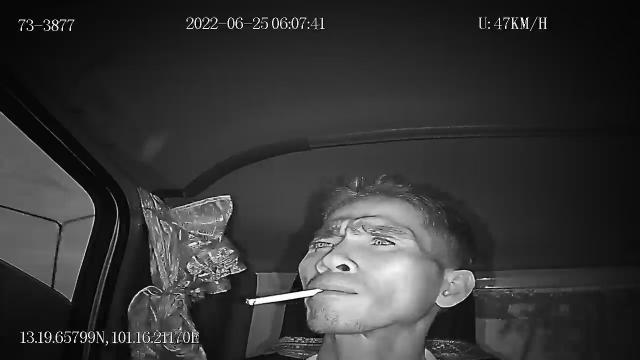SafeDriving: (358, 227, 404, 252)
Smoking: (244, 288, 324, 306)
